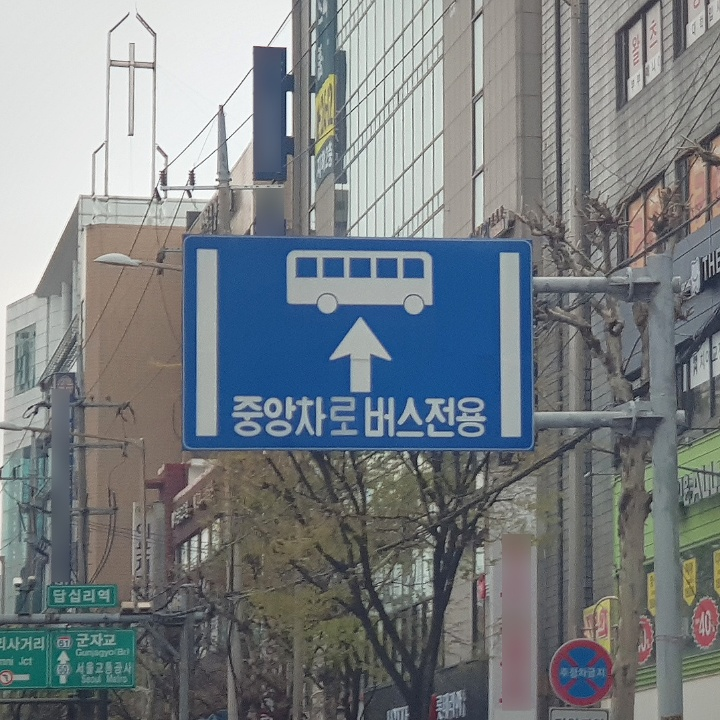bus: (274, 242, 451, 329)
